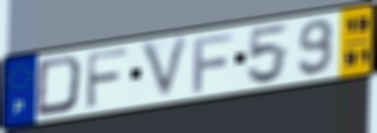5: (246, 21, 293, 85)
9: (295, 17, 336, 78)
D: (33, 53, 85, 119)
F: (83, 47, 131, 111), (191, 31, 236, 94)
V: (138, 33, 193, 104)
